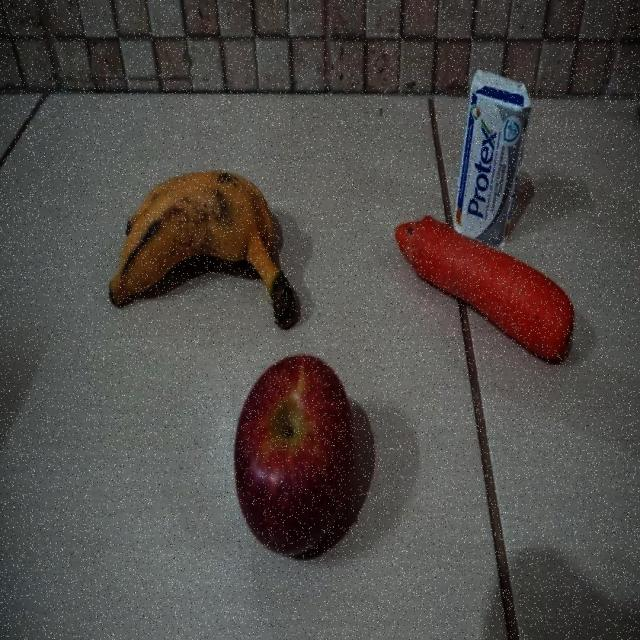Apple: (228, 352, 356, 555)
Banana: (108, 164, 300, 329)
Carrot: (388, 217, 580, 367)
Soap: (458, 62, 531, 210)
